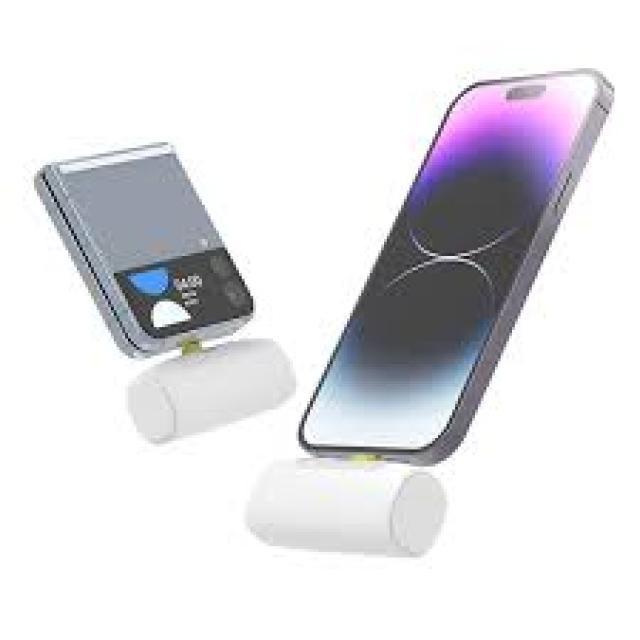power_bank: (242, 451, 448, 563), (126, 337, 301, 448)
